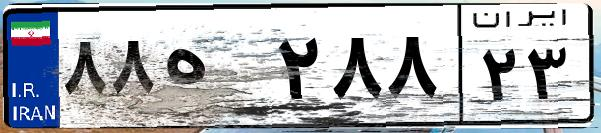2: (270, 28, 330, 110), (475, 38, 525, 113)
3: (525, 38, 570, 115)
8: (385, 28, 445, 110), (330, 28, 385, 110), (57, 26, 110, 100), (110, 28, 158, 98)
ه: (158, 20, 270, 120)
